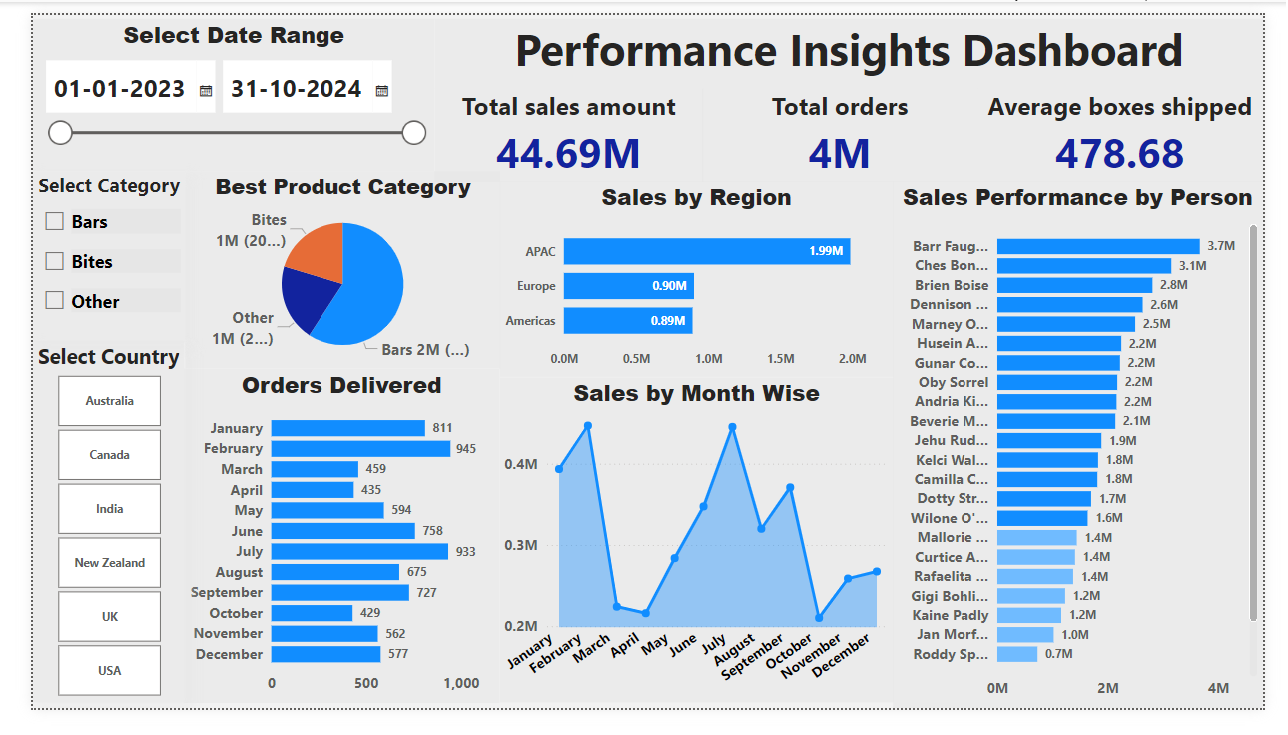

The page's visual inventory and layout, read from the dashboard file:
{"tool":"powerbi","page":{"name":"Page 1","canvas":[1280,720],"ordinal":0},"visuals":[{"type":"card","title":"Total sales amount","fields":{"Values":["shipments.Amount"]},"box":[417.6,76.5,278.8,96.5],"z":0},{"type":"card","title":"Total orders","fields":{"Values":["shipments.Boxes"]},"box":[696.5,76.5,287.1,96.5],"z":1000},{"type":"pieChart","title":"Best Product Category","fields":{"Category":["products.Category"],"Y":["shipments.Boxes"]},"box":[158,162,328,205],"z":2000},{"type":"card","title":"Average boxes shipped","fields":{"Values":["shipments.Average boxes"]},"box":[983.5,76.5,296.5,96.5],"z":3000},{"type":"barChart","title":"Sales by Region","fields":{"Y":["shipments.Boxes"],"Category":["locations.Region"]},"box":[485.9,172.9,409.4,203.5],"z":4000},{"type":"lineChart","title":"Sales by Month Wise","fields":{"Y":["shipments.Boxes"],"Category":["calendar.cal_date.Variation.Date Hierarchy.Month"]},"box":[485.9,376.5,409.4,337.6],"z":5000},{"type":"clusteredBarChart","title":"Sales Performance by Person","fields":{"Category":["people.Sales_person"],"Y":["shipments.Sales Performance"]},"box":[895.2,172.6,384.5,547.6],"z":6000},{"type":"clusteredBarChart","title":"Orders Delivered","fields":{"Y":["shipments.Order_Status"],"Category":["calendar.cal_date.Variation.Date Hierarchy.Month"]},"box":[157.6,367.1,328.2,347.1],"z":7000},{"type":"slicer","title":"Select Category","fields":{"Values":["products.Category"]},"box":[0,161.9,158.3,177.4],"z":8000},{"type":"textbox","title":"Performance Insights Dashboard","box":[417.6,3.5,862.4,72.9],"z":8500},{"type":"slicer","title":"Select Country","fields":{"Values":["locations.Geo"]},"box":[0,339.3,157.1,375],"z":9000},{"type":"slicer","title":"Select Date Range","fields":{"Values":["calendar.cal_date"]},"box":[0,3.6,417.9,158.3],"z":11000}]}

Visuals, with their boxes in screenshot pixels (x1, y1, x2, y2), scaled from the page's 1280x720 canvas onto the 1288x735 screenshot:
"Total sales amount" card: [left=420, top=78, right=701, bottom=177]
"Total orders" card: [left=701, top=78, right=990, bottom=177]
"Best Product Category" pieChart: [left=159, top=165, right=489, bottom=375]
"Average boxes shipped" card: [left=990, top=78, right=1287, bottom=177]
"Sales by Region" barChart: [left=489, top=177, right=901, bottom=384]
"Sales by Month Wise" lineChart: [left=489, top=384, right=901, bottom=729]
"Sales Performance by Person" clusteredBarChart: [left=901, top=176, right=1287, bottom=734]
"Orders Delivered" clusteredBarChart: [left=159, top=375, right=489, bottom=729]
"Select Category" slicer: [left=0, top=165, right=159, bottom=346]
"Performance Insights Dashboard" textbox: [left=420, top=4, right=1287, bottom=78]
"Select Country" slicer: [left=0, top=346, right=158, bottom=729]
"Select Date Range" slicer: [left=0, top=4, right=421, bottom=165]
